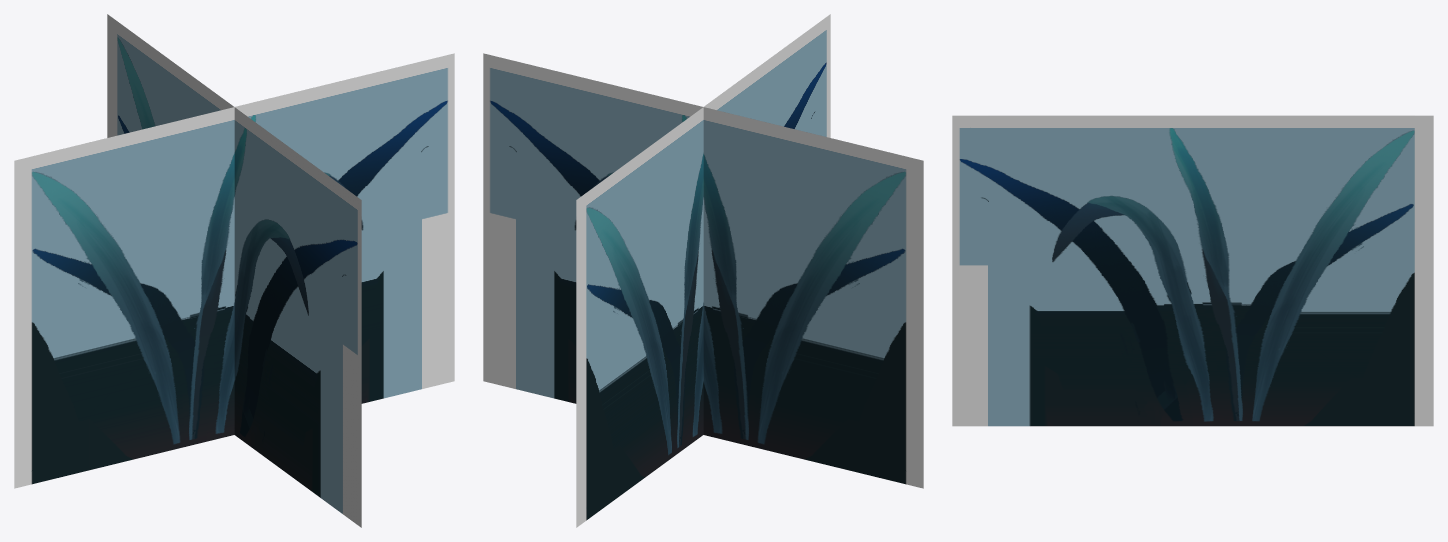
Rendered from Pasto_mesh_final.fbx.
The picture shows the model from 3 angles, left to right: view 1: azimuth 30°, elevation 25°; view 2: azimuth 150°, elevation 25°; view 3: azimuth 270°, elevation 25°; orthographic projection. The views are drawn at different scales.
Parts seen in each view (by area): view 1: pPlane2, pPlane1; view 2: pPlane2, pPlane1; view 3: pPlane1.
Boxes of the visible parts, x1,y1,x2,y2 form: pPlane2: (14, 53, 454, 488); pPlane1: (107, 14, 361, 527); pPlane2: (483, 53, 923, 488); pPlane1: (576, 14, 830, 527); pPlane1: (952, 115, 1433, 426).
Bounding box in the file's own units: 1 × 0.7118 × 1.
